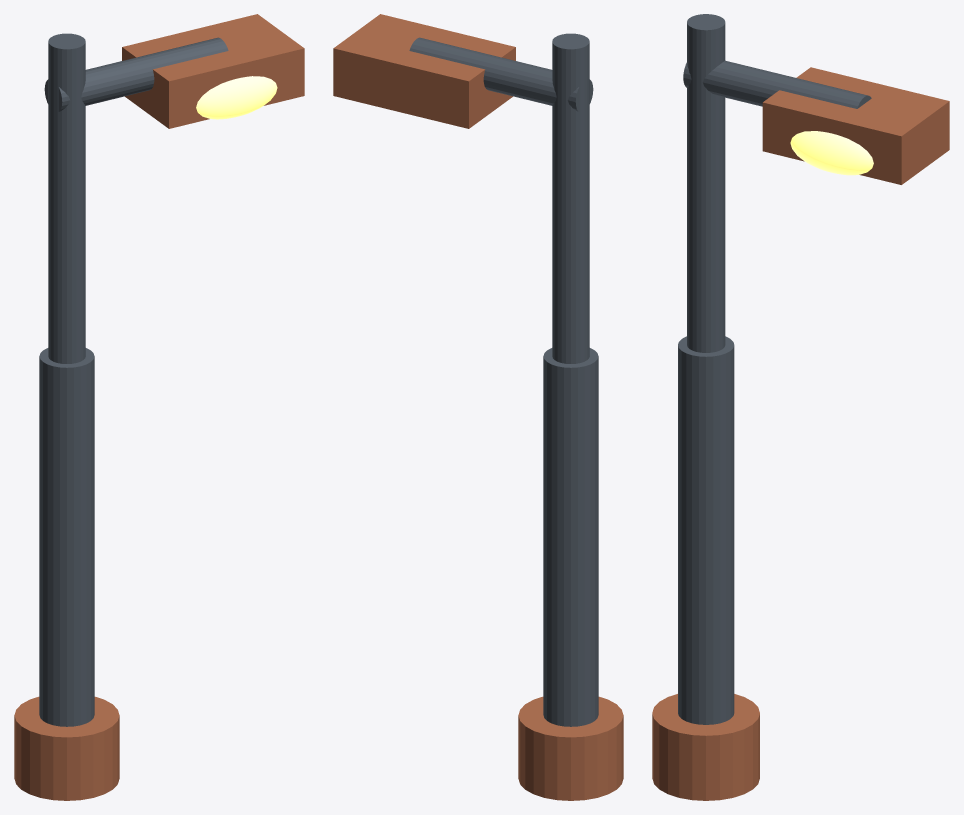
The model's file is lamp_foundry_v1.efed19a8fe04.glb.
3 renders of one model, left to right at view 1: azimuth 30°, elevation 25°; view 2: azimuth 150°, elevation 25°; view 3: azimuth 330°, elevation 25°, orthographic. The views are drawn at different scales.
Visible parts, largest first — view 1: Lamp_Lower_FOUNDRY, Lamp_Upper_FOUNDRY, Luminaire_FOUNDRY, Lamp_Base_FOUNDRY, Lamp_Arm_FOUNDRY, Glow_FOUNDRY; view 2: Lamp_Lower_FOUNDRY, Luminaire_FOUNDRY, Lamp_Upper_FOUNDRY, Lamp_Base_FOUNDRY, Lamp_Arm_FOUNDRY; view 3: Lamp_Lower_FOUNDRY, Lamp_Upper_FOUNDRY, Luminaire_FOUNDRY, Lamp_Base_FOUNDRY, Lamp_Arm_FOUNDRY, Glow_FOUNDRY.
Part boxes in pixels (x1,y1,x2,y2): Lamp_Lower_FOUNDRY: (39, 348, 94, 726); Lamp_Upper_FOUNDRY: (48, 33, 85, 363); Luminaire_FOUNDRY: (122, 14, 304, 128); Lamp_Base_FOUNDRY: (14, 696, 119, 800); Lamp_Arm_FOUNDRY: (44, 37, 228, 111); Glow_FOUNDRY: (196, 76, 277, 119); Lamp_Lower_FOUNDRY: (543, 348, 598, 726); Luminaire_FOUNDRY: (333, 14, 515, 128); Lamp_Upper_FOUNDRY: (552, 33, 589, 363); Lamp_Base_FOUNDRY: (518, 696, 623, 800); Lamp_Arm_FOUNDRY: (409, 37, 593, 111); Lamp_Lower_FOUNDRY: (678, 336, 734, 724); Lamp_Upper_FOUNDRY: (687, 14, 725, 352); Luminaire_FOUNDRY: (762, 67, 949, 184); Lamp_Base_FOUNDRY: (652, 694, 759, 800); Lamp_Arm_FOUNDRY: (683, 60, 871, 108); Glow_FOUNDRY: (790, 131, 873, 175).
Bounding box in the file's own units: 2.39 × 6.5 × 0.894.
